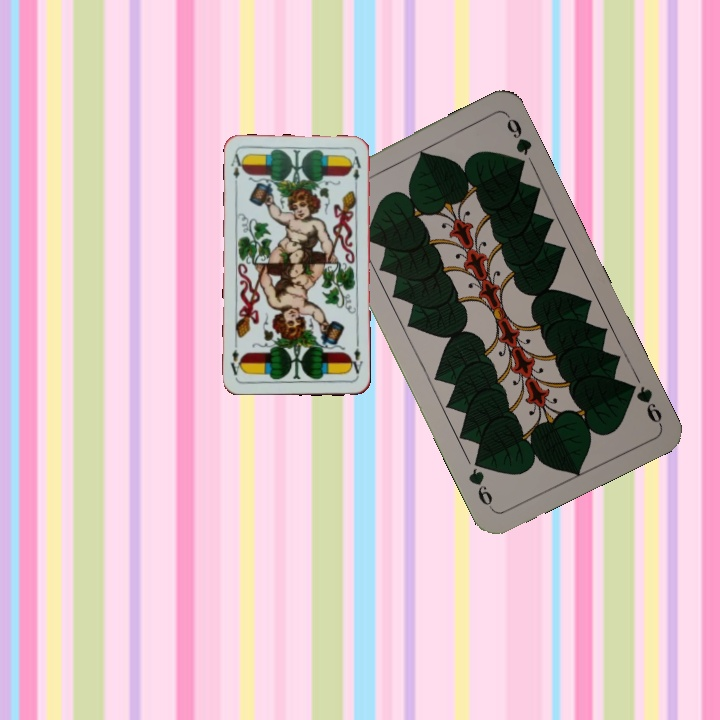EA: (226, 150, 246, 190), (346, 338, 365, 379)
G9: (621, 378, 665, 428)
